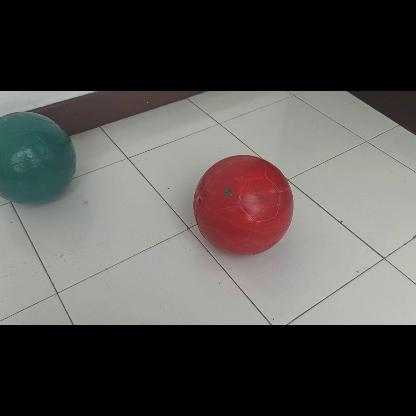red_ball: (194, 154, 296, 256)
